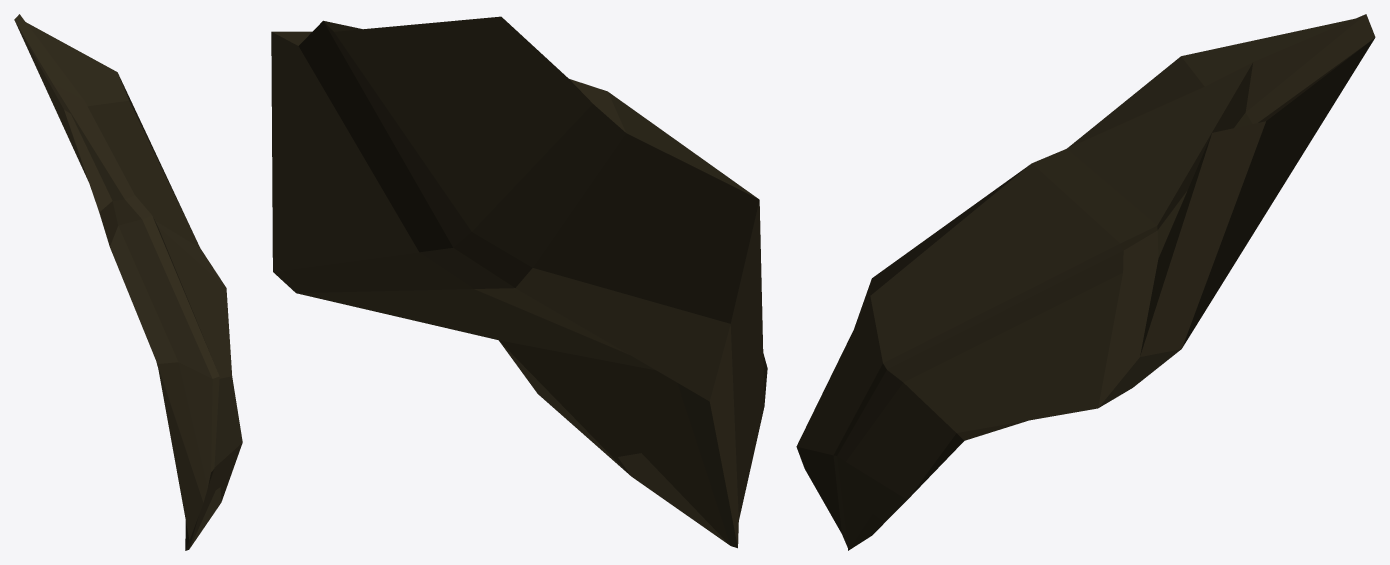
The model's file is R_Daisy_Withered.fbx.
The picture shows the model from 3 angles, left to right: view 1: azimuth 30°, elevation 25°; view 2: azimuth 150°, elevation 25°; view 3: azimuth 270°, elevation 25°; orthographic projection. The views are drawn at different scales.
Parts seen in each view (by area): view 1: Leaf_R; view 2: Leaf_R; view 3: Leaf_R.
Part boxes in pixels (left/top/right/bottom): Leaf_R: left=14, top=14, right=242, bottom=550; Leaf_R: left=271, top=16, right=767, bottom=548; Leaf_R: left=796, top=14, right=1375, bottom=550.
Size of the model in its own units: 114 by 285 by 273.
